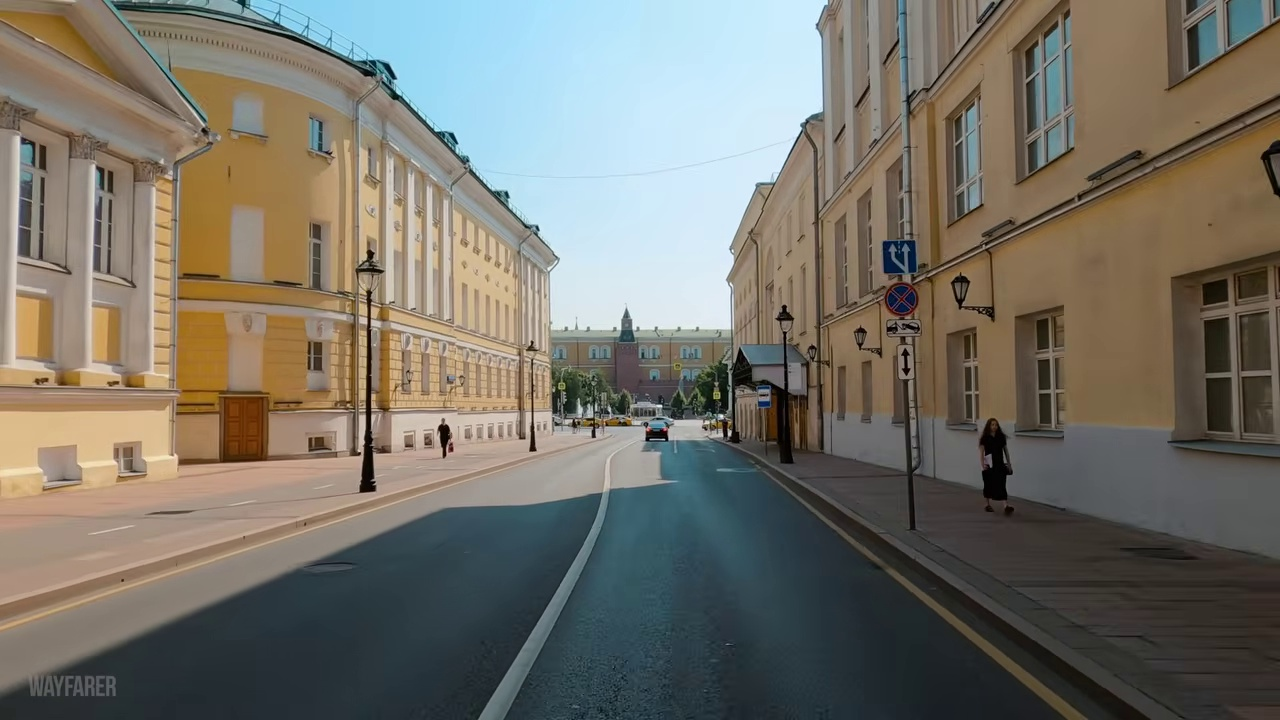apagada: (356, 260, 383, 293), (776, 313, 798, 336)
